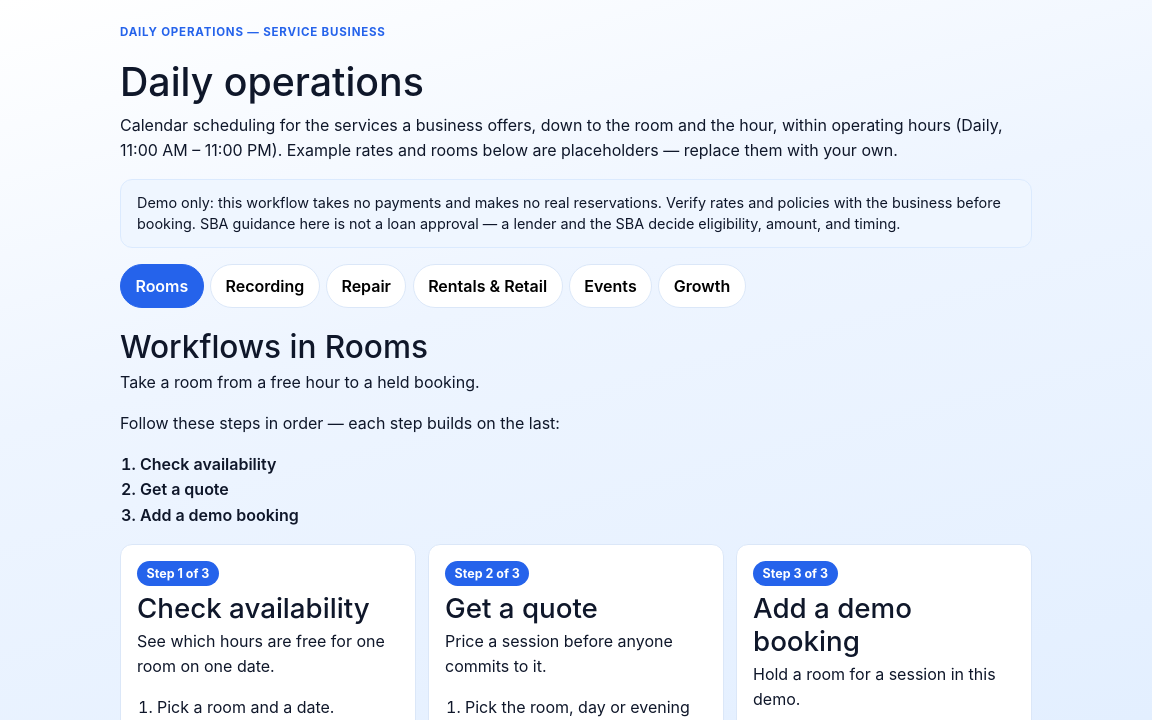
ServiceDaily › repair tab shows its own task cards, and outline cards do not pretend to be forms
Click the tab "Repair": [366, 286] box [326, 264, 406, 308]
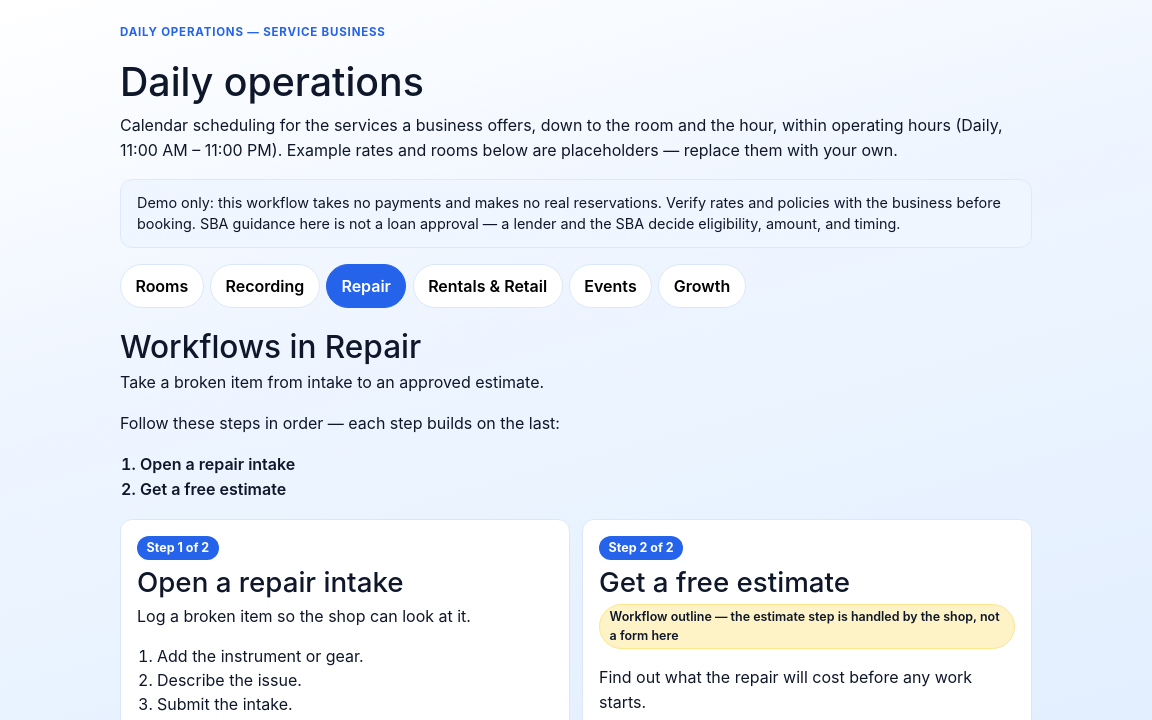
Expected: the heading "Workflows in Repair" is shown, [120, 327, 421, 366]
Expected: the heading "Open a repair intake" is shown, [137, 565, 404, 599]
Expected: the text "Workflow outline" is shown, [610, 609, 1000, 643]
